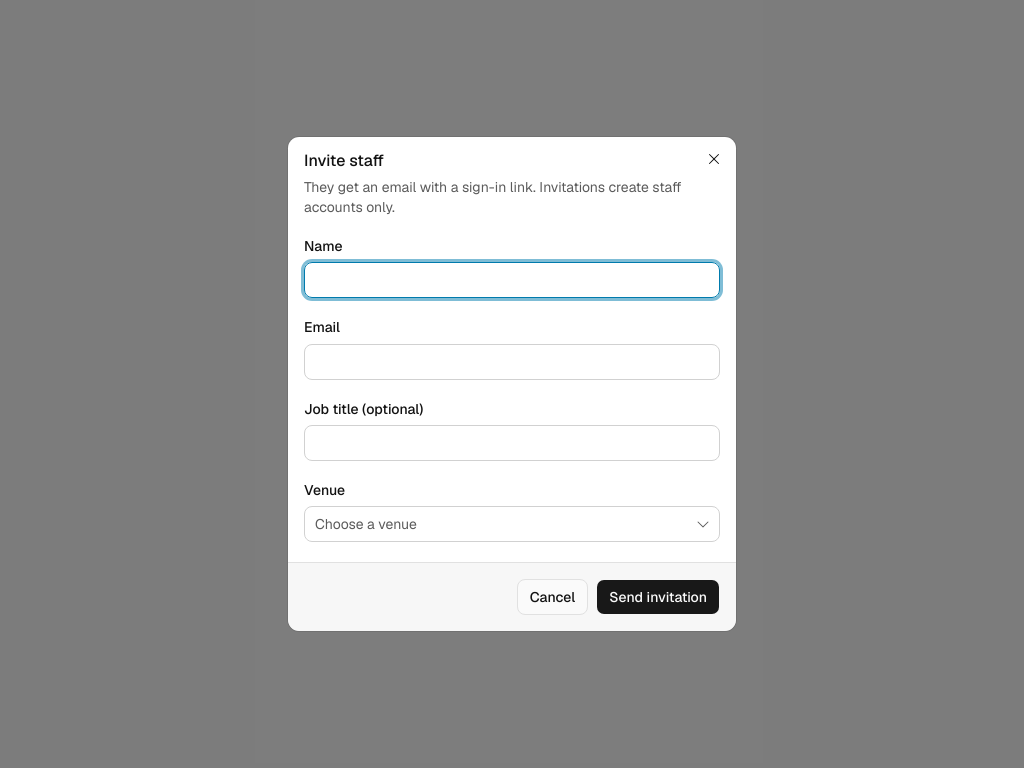
Scenario: InviteStaffDialog › reports a partial failure without claiming success
This screenshot has width=1024, height=768.
Click the button "Send invitation".
click(658, 597)  # box [596, 579, 720, 615]
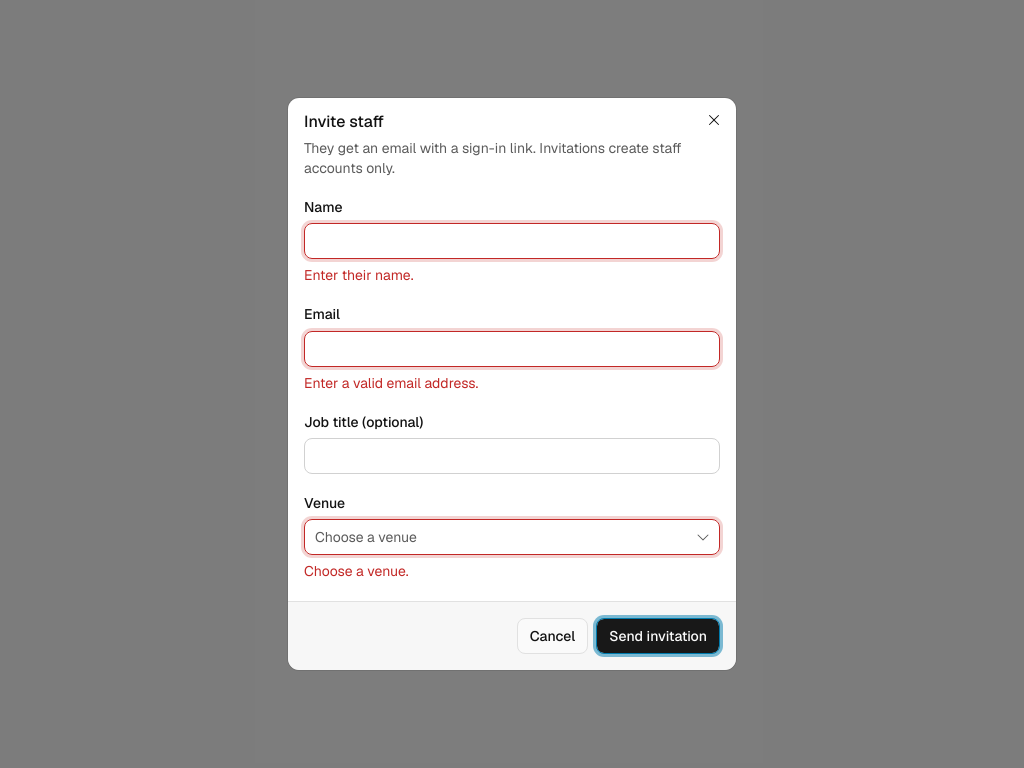
Check: the text "Enter their name." is shown, box [304, 266, 414, 284]
Check: the text "Choose a venue." is shown, box [304, 562, 409, 580]
Type "Test person" into the field labelled "Name".
click(512, 241); type("Test person")  # box [304, 223, 720, 259]
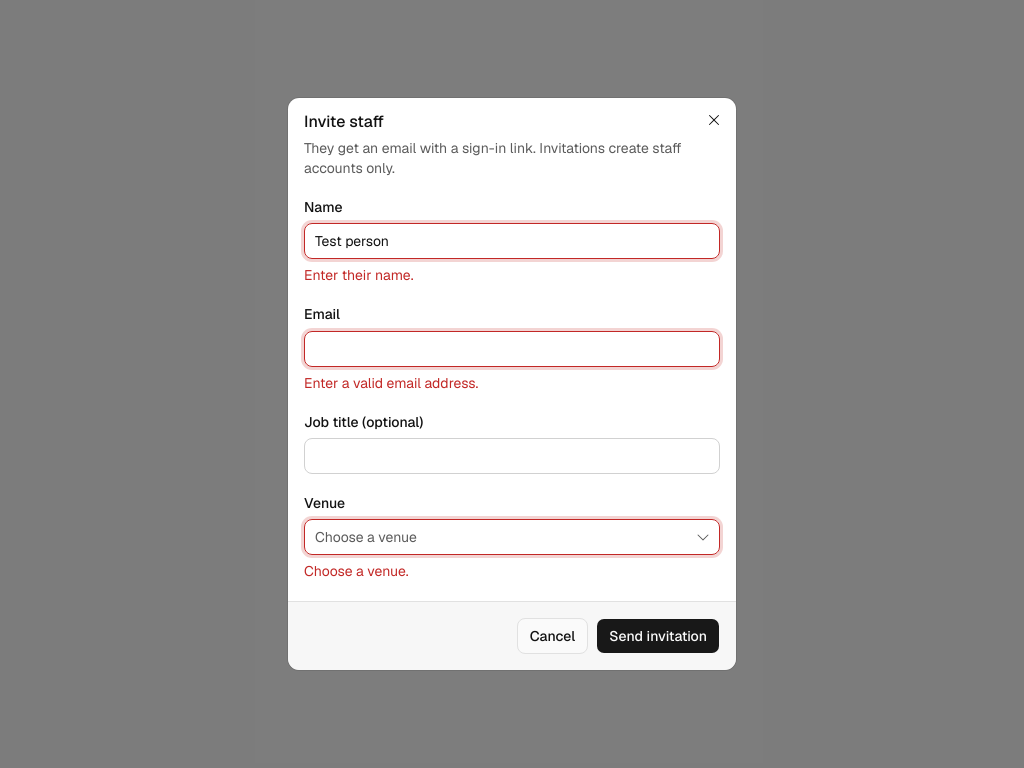
Type "Test.Person@Example.invalid " into the field labelled "Email".
click(512, 348); type("Test.Person@Example.invalid ")  # box [304, 330, 720, 366]
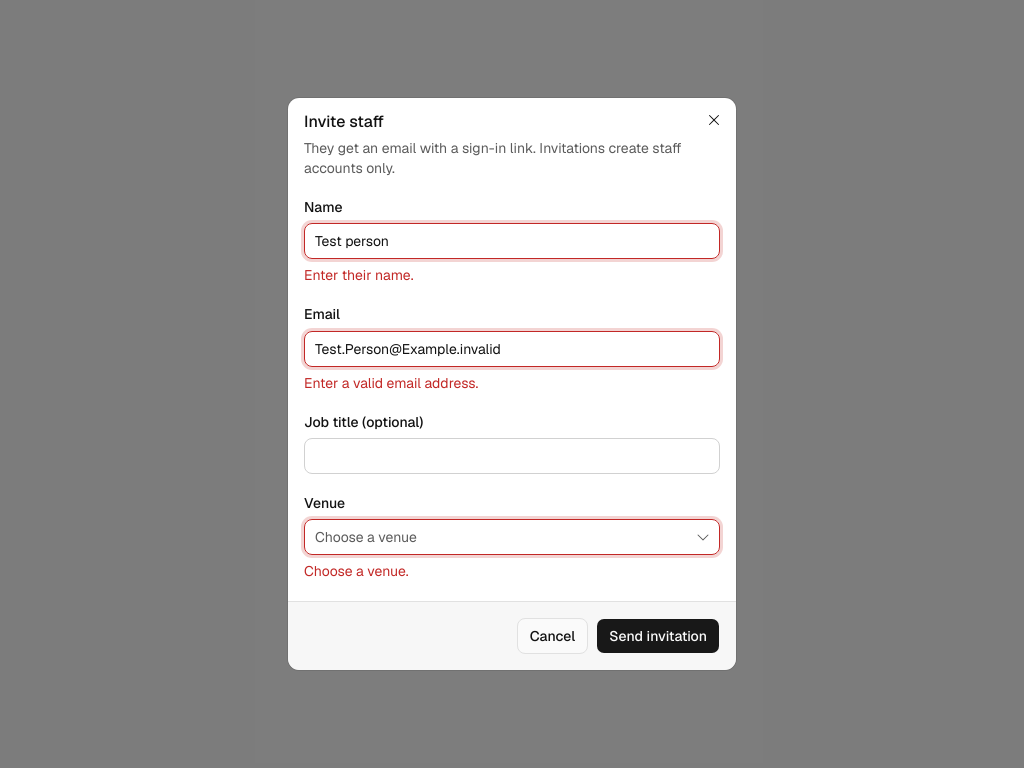
Click the dropdown labelled "venue".
click(366, 537)  # box [304, 519, 720, 555]
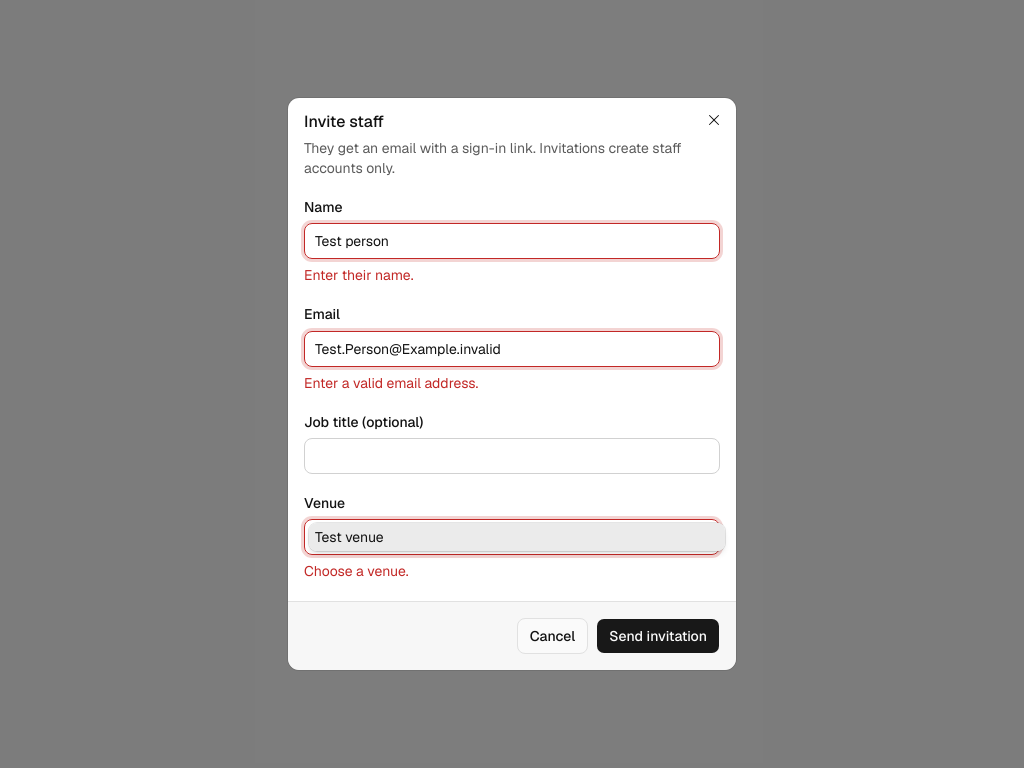
Click the option "Test venue".
click(349, 537)  # box [309, 523, 725, 551]
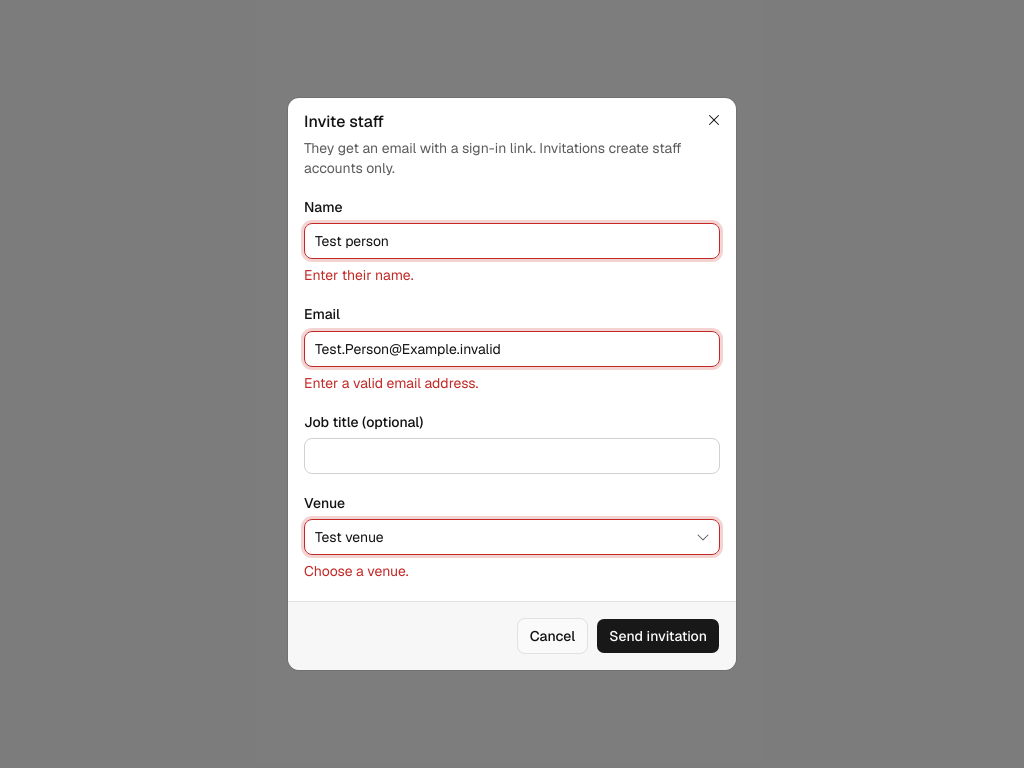
Click the button "Send invitation".
click(658, 636)  # box [596, 618, 720, 654]
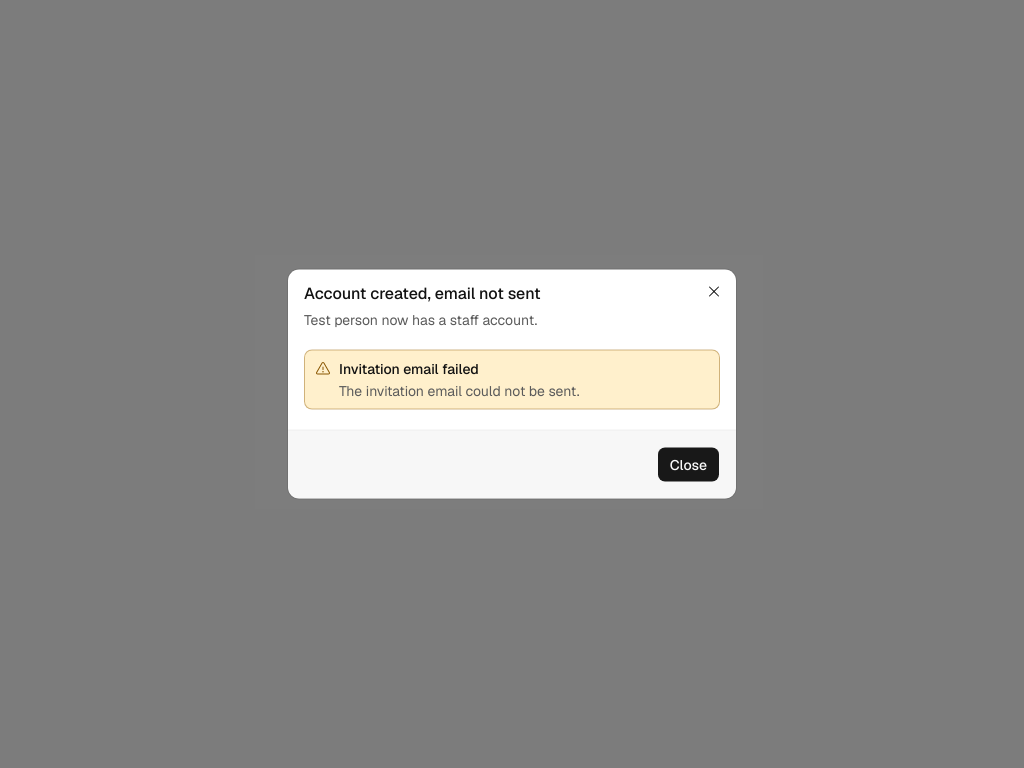
Check: the heading "Account created, email not sent" is shown, box [304, 282, 541, 304]
Check: the text "The invitation email could not be sent." is shown, box [339, 382, 580, 400]
